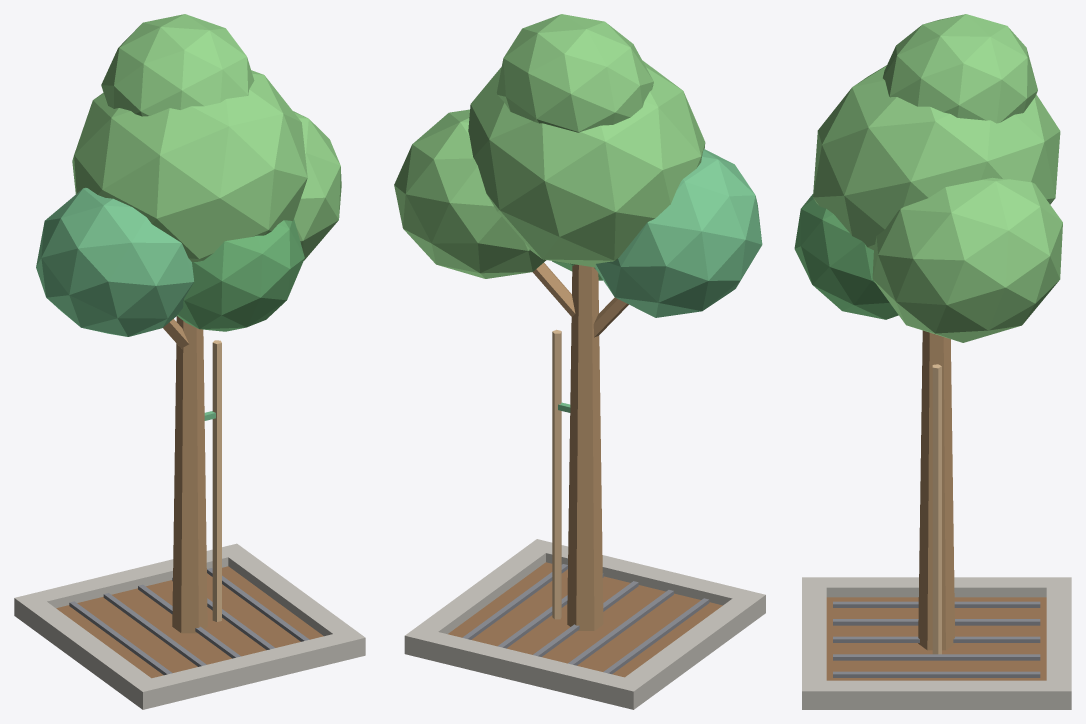
Rendered from env_tree_young_01.glb.
3 views of the same model, side by side, from view 1: azimuth 30°, elevation 25°; view 2: azimuth 150°, elevation 25°; view 3: azimuth 270°, elevation 25° (orthographic). The views are drawn at different scales.
Visible parts, largest first — view 1: env_tree_young_01_body; view 2: env_tree_young_01_body; view 3: env_tree_young_01_body.
Boxes of the visible parts, x1,y1,x2,y2 form: env_tree_young_01_body: [14, 14, 365, 709]; env_tree_young_01_body: [394, 14, 765, 709]; env_tree_young_01_body: [794, 14, 1071, 709].
Bounding box in the file's own units: 1.8 × 3.36 × 1.34.
